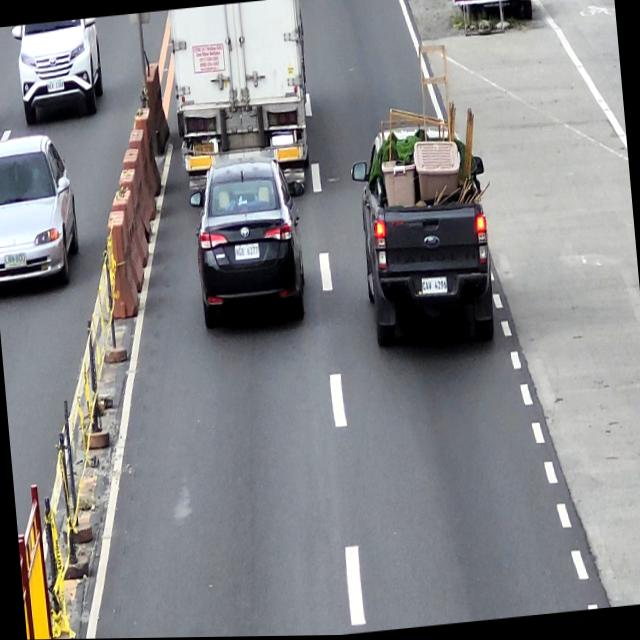Car: (348, 120, 499, 355), (186, 156, 310, 332), (0, 129, 83, 299), (10, 17, 106, 126)
License-Plate: (419, 277, 448, 297), (234, 242, 259, 262), (2, 251, 27, 270), (192, 142, 215, 156), (46, 79, 65, 93)
Truck: (168, 0, 316, 202)
